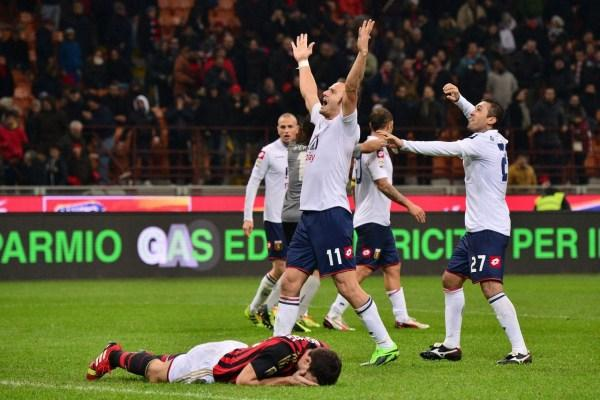down: (82, 327, 353, 384)
up: (268, 16, 400, 369), (404, 77, 533, 372), (336, 105, 430, 334), (237, 103, 306, 331)
